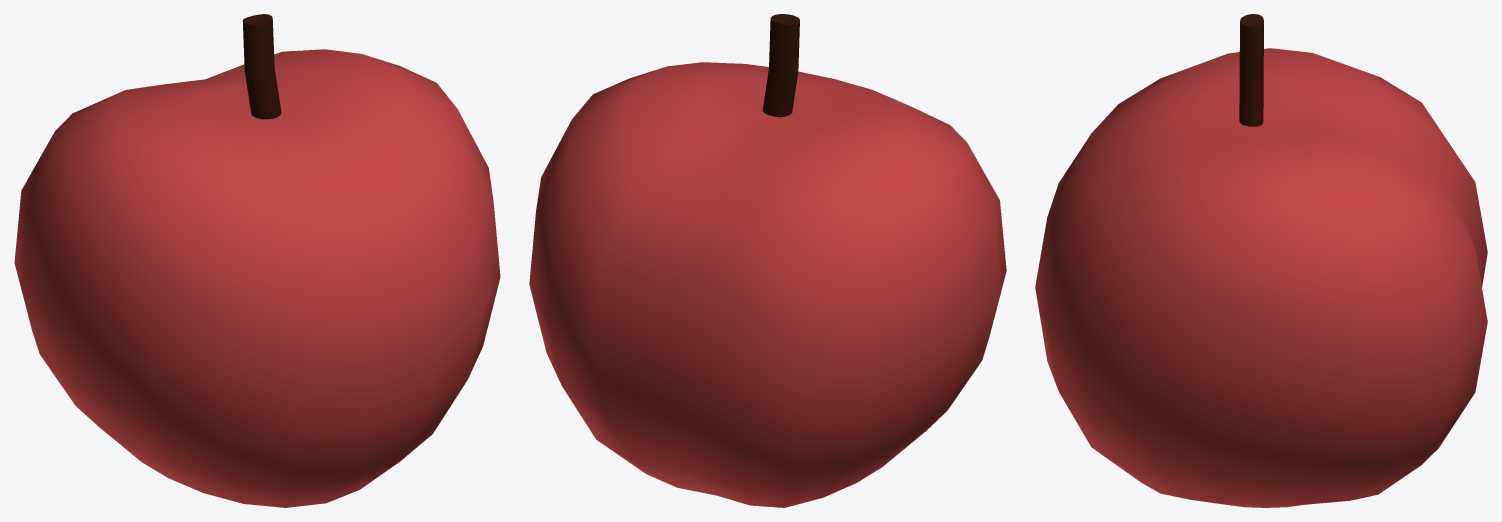
The model's file is Peach.fbx.
The picture shows the model from 3 angles, left to right: view 1: azimuth 30°, elevation 25°; view 2: azimuth 150°, elevation 25°; view 3: azimuth 270°, elevation 25°; orthographic projection.
Visible parts, largest first — view 1: Sphere004, Object001; view 2: Sphere004, Object001; view 3: Sphere004, Object001.
Boxes of the visible parts, x1,y1,x2,y2 form: Sphere004: [14, 49, 500, 507]; Object001: [242, 14, 281, 119]; Sphere004: [529, 62, 1006, 507]; Object001: [762, 14, 799, 117]; Sphere004: [1035, 48, 1487, 507]; Object001: [1239, 14, 1263, 126].
Size of the model in its own units: 96.52 by 105 by 90.8.
